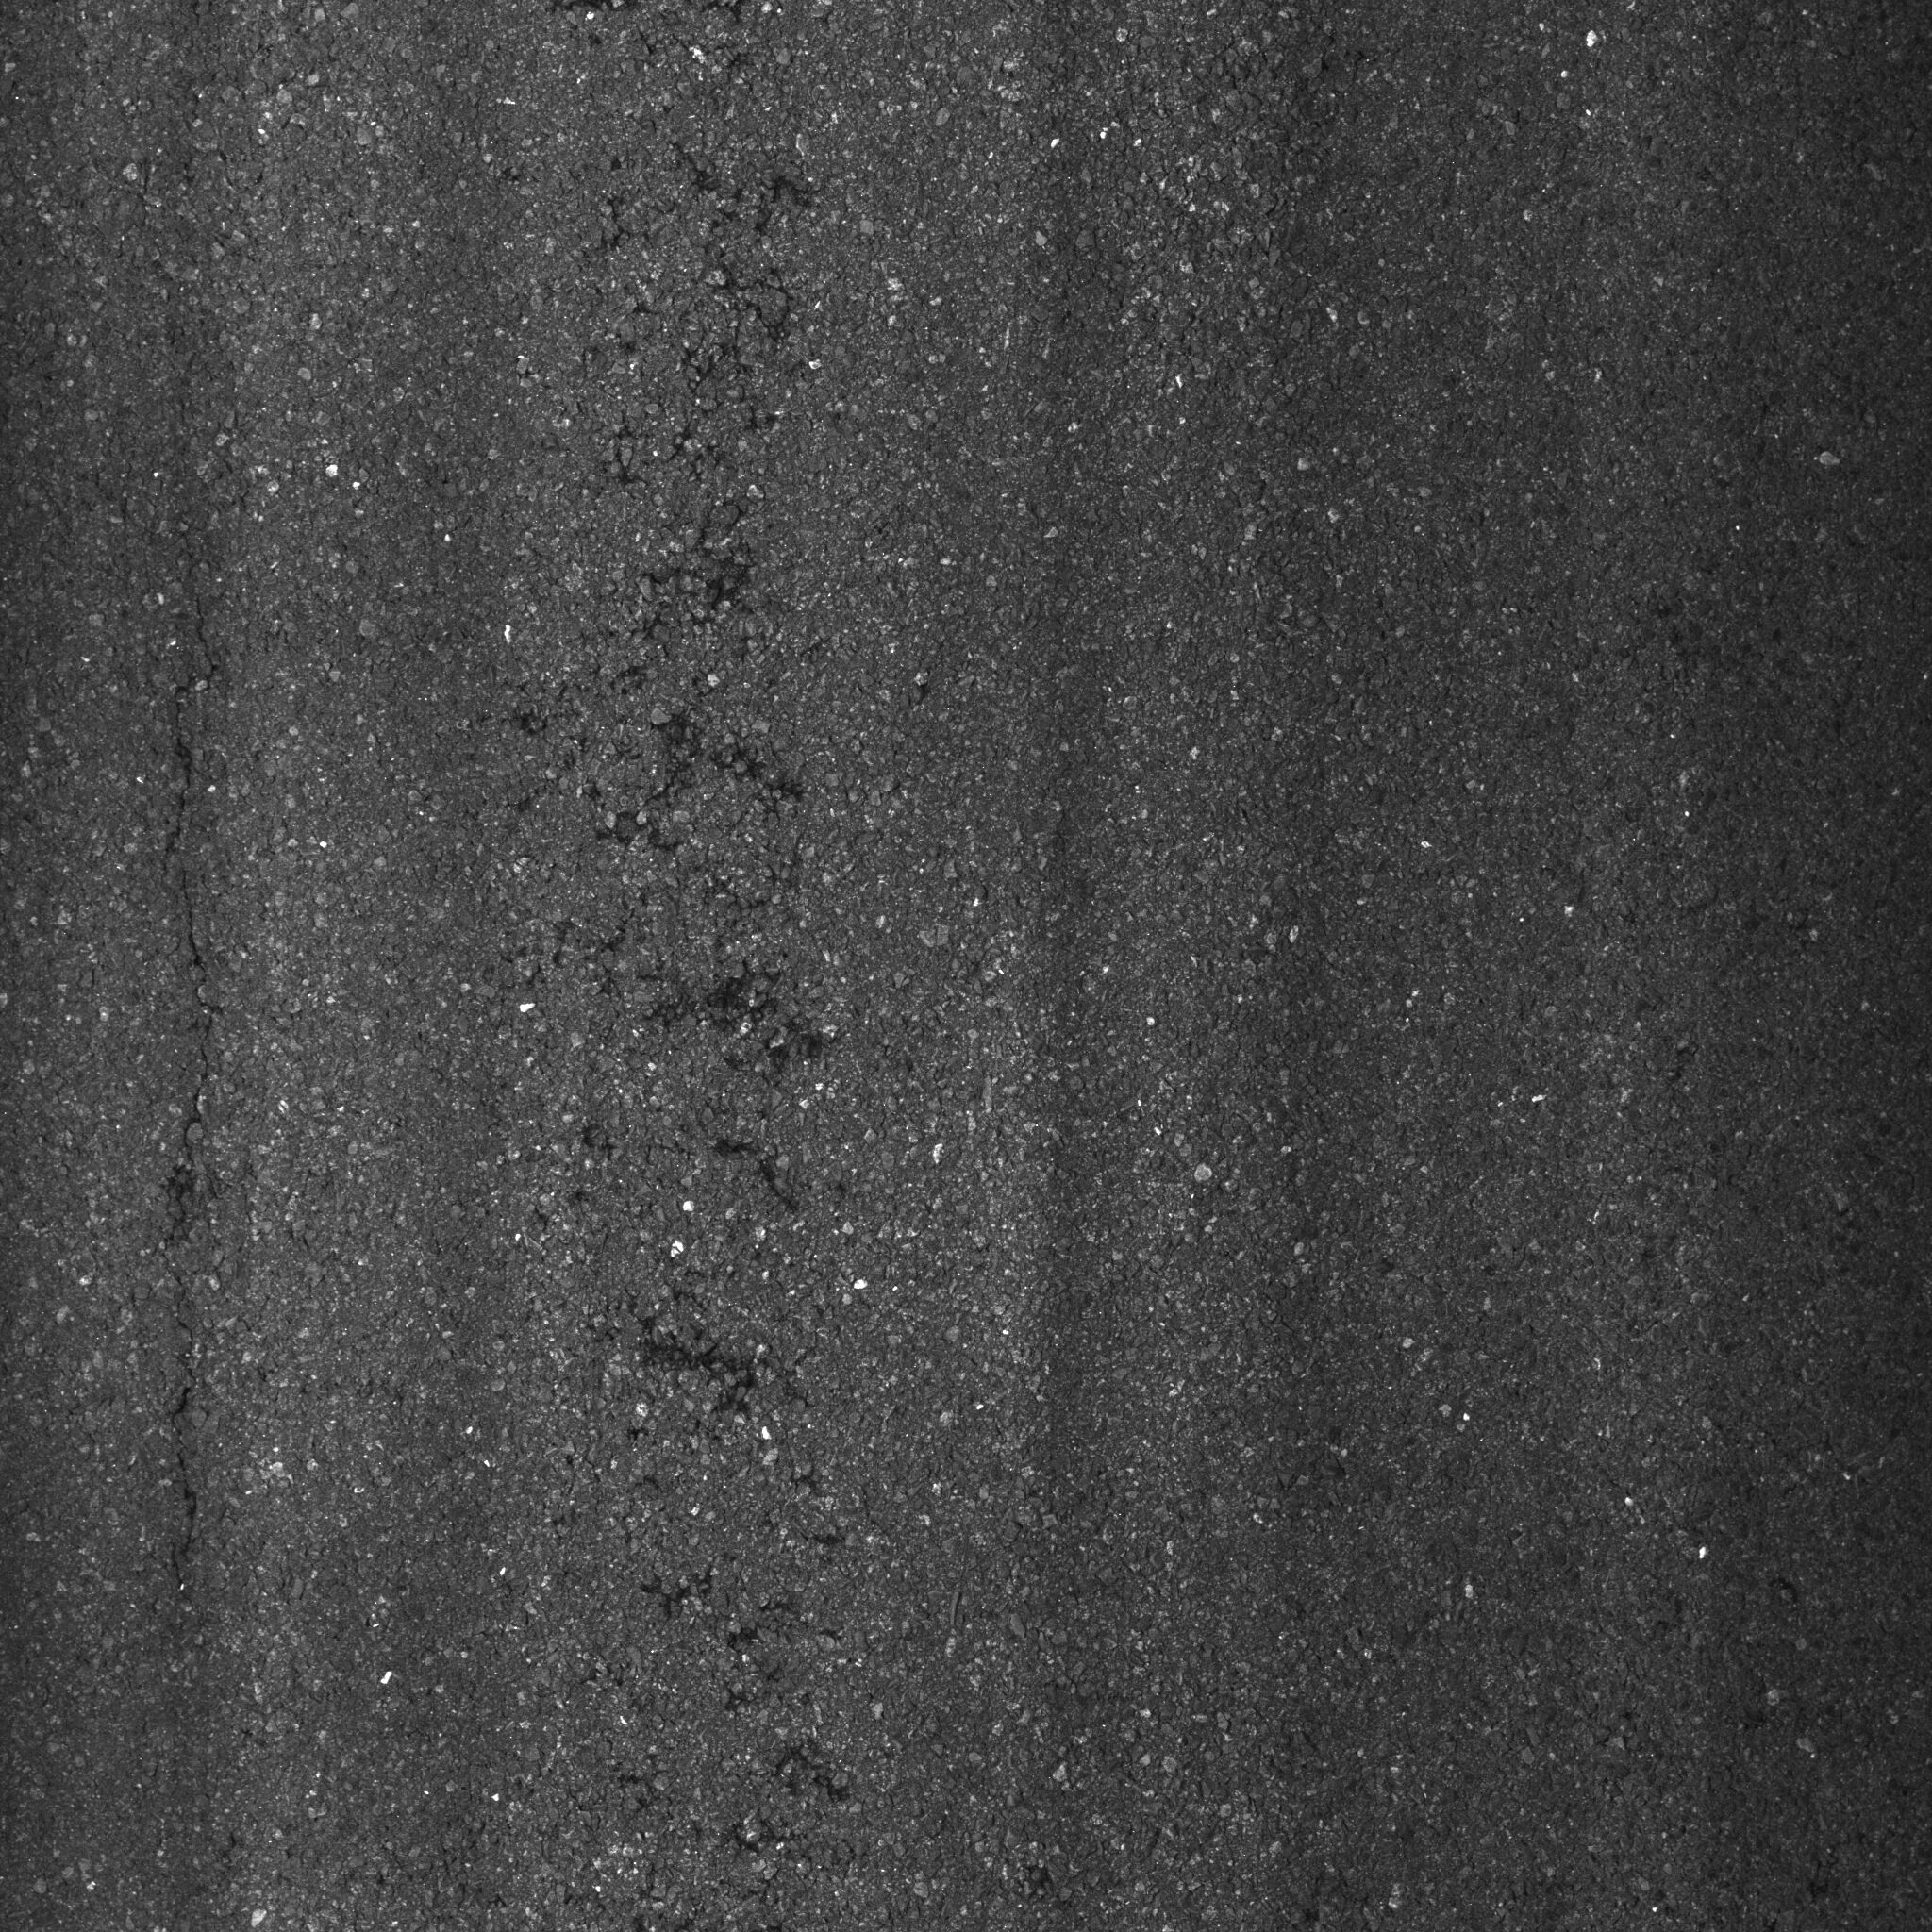longitudinal: (557, 73, 874, 1499), (133, 559, 258, 1622)
